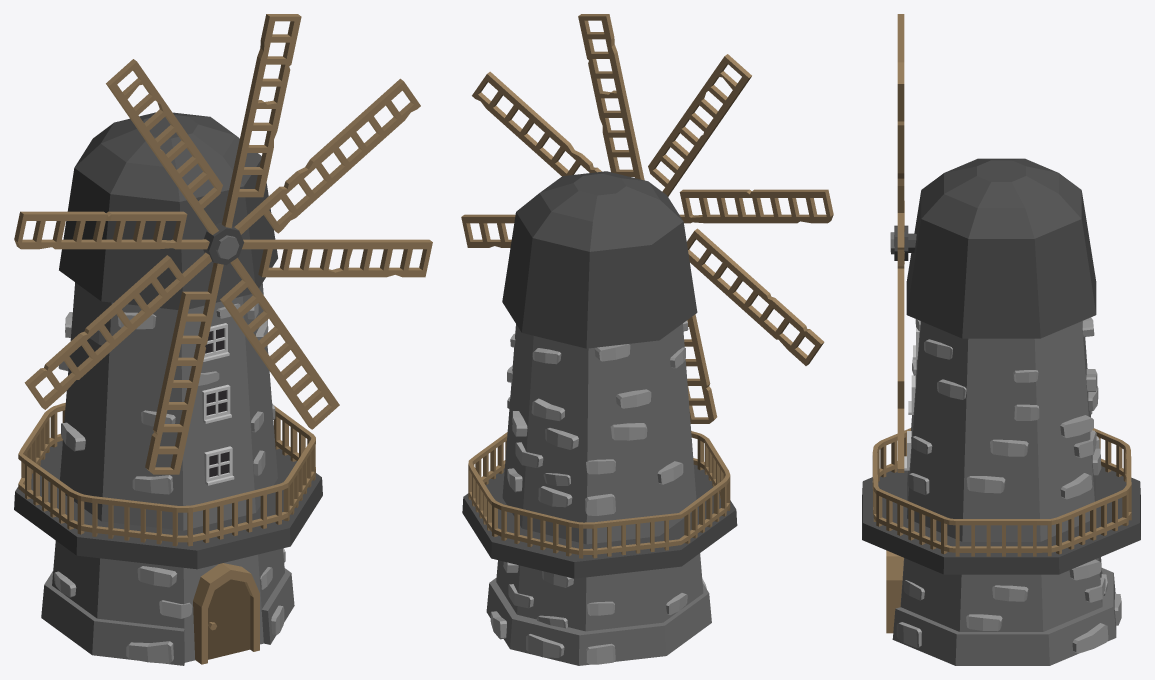
File: TowerWindmill.glb
3 renders of one model, left to right at view 1: azimuth 30°, elevation 25°; view 2: azimuth 150°, elevation 25°; view 3: azimuth 270°, elevation 25°, orthographic. The views are drawn at different scales.
Visible parts, largest first — view 1: LightBrown, DarkGrey, RoofBlack, Grey, DarkBrown, White, Black; view 2: DarkGrey, RoofBlack, LightBrown, Grey; view 3: DarkGrey, RoofBlack, LightBrown, Grey, White.
Boxes of the visible parts, box(x1,y1,x2,y2) form: LightBrown: box(14, 14, 432, 664); DarkGrey: box(41, 235, 294, 665); RoofBlack: box(14, 112, 322, 569); Grey: box(53, 303, 285, 663); DarkBrown: box(208, 579, 250, 659); White: box(202, 323, 234, 485); Black: box(205, 328, 228, 477); DarkGrey: box(486, 323, 711, 665); RoofBlack: box(462, 171, 737, 578); LightBrown: box(461, 14, 833, 558); Grey: box(490, 320, 706, 664); DarkGrey: box(890, 232, 1116, 665); RoofBlack: box(862, 158, 1140, 574); LightBrown: box(872, 14, 1131, 633); Grey: box(896, 317, 1121, 653); White: box(904, 327, 919, 470).
Bounding box in the file's own units: 7.92 × 11.41 × 4.99.
